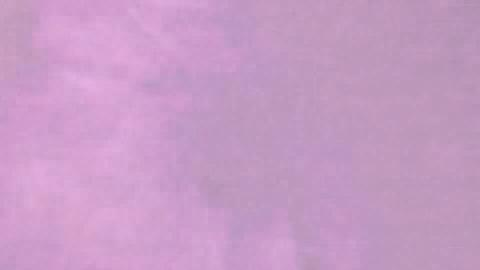tomato: (2, 119, 148, 268)
